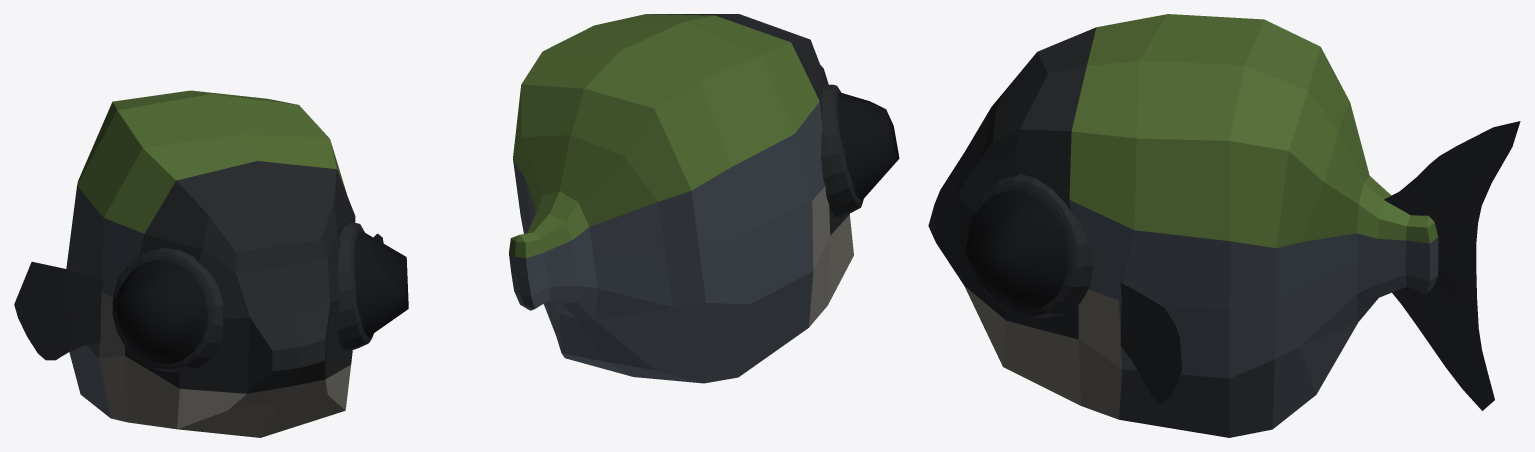
File: cc0-tang-lod1.glb
The picture shows the model from 3 angles, left to right: view 1: azimuth 30°, elevation 25°; view 2: azimuth 150°, elevation 25°; view 3: azimuth 270°, elevation 25°; orthographic projection. The views are drawn at different scales.
Visible parts, largest first — view 1: part_0; view 2: part_0; view 3: part_0.
Boxes of the visible parts, bbox=[...] form: part_0: bbox=[14, 90, 408, 437]; part_0: bbox=[509, 14, 899, 383]; part_0: bbox=[928, 14, 1520, 437].
Size of the model in its own units: 3.2 by 2.68 by 4.14.
